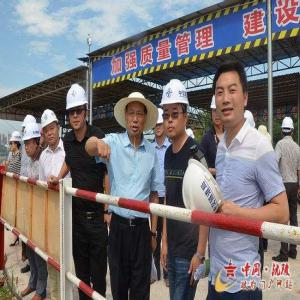none: (215, 62, 247, 127)
white: (162, 77, 189, 140), (66, 82, 90, 133), (125, 93, 148, 139), (42, 108, 60, 148), (23, 122, 41, 158), (282, 113, 295, 142), (154, 108, 166, 138), (212, 95, 222, 128), (10, 132, 22, 154)
